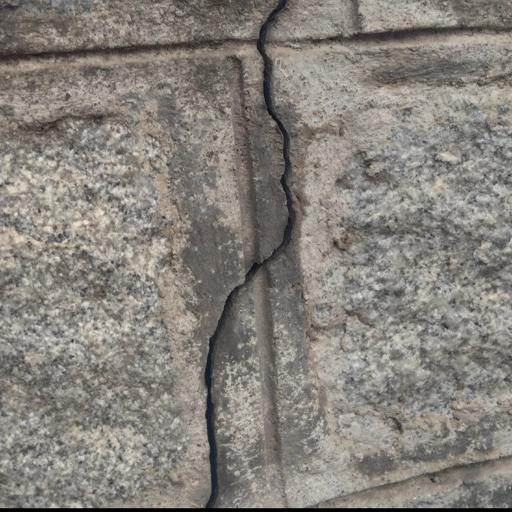major_crack: (195, 0, 311, 508)
